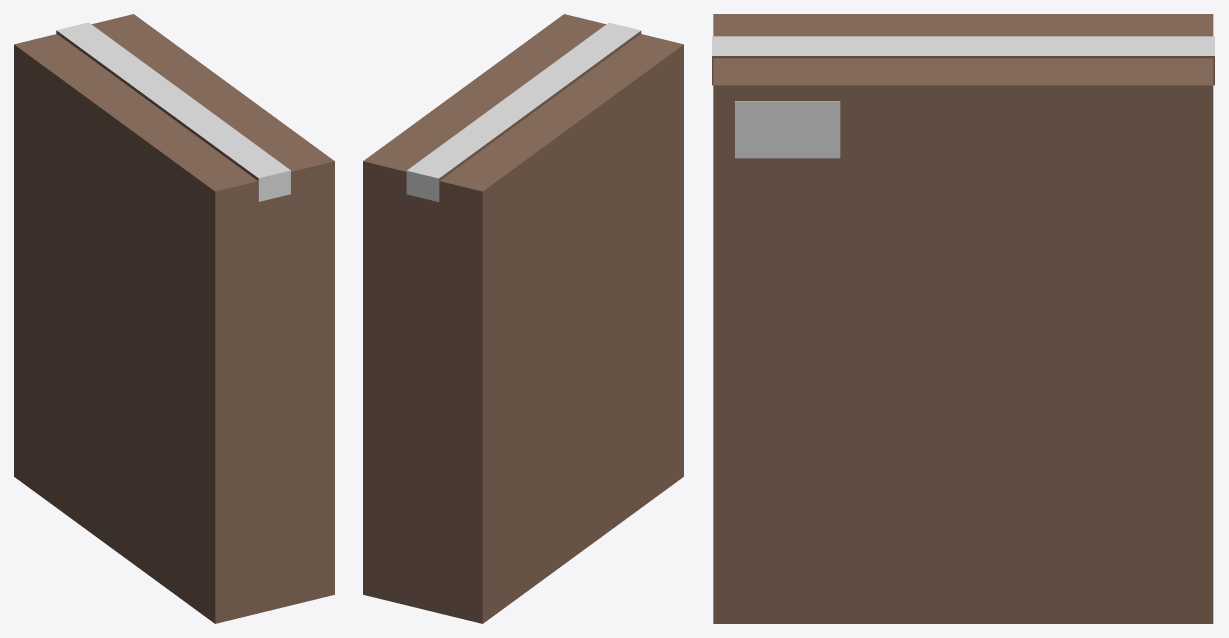
Rendered from CollisionObj.dae.
3 views of the same model, side by side, from view 1: azimuth 30°, elevation 25°; view 2: azimuth 150°, elevation 25°; view 3: azimuth 270°, elevation 25° (orthographic). The views are drawn at different scales.
Visible parts, largest first — view 1: Cube.007; view 2: Cube.007; view 3: Cube.007.
Part boxes in pixels (<box>): Cube.007: <box>14,14,334,623</box>; Cube.007: <box>363,14,683,623</box>; Cube.007: <box>712,14,1214,623</box>.
Size of the model in its own units: 0.112 by 0.3269 by 0.3881.
